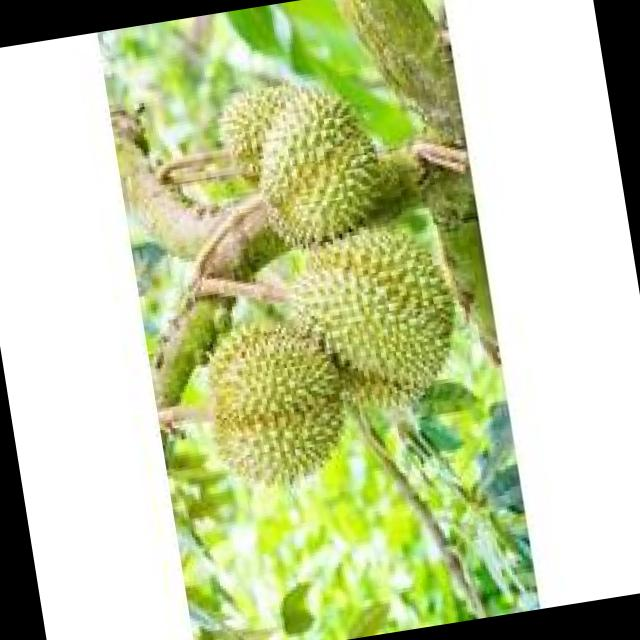fruit: (260, 203, 482, 436), (201, 51, 418, 274), (184, 301, 371, 508)
